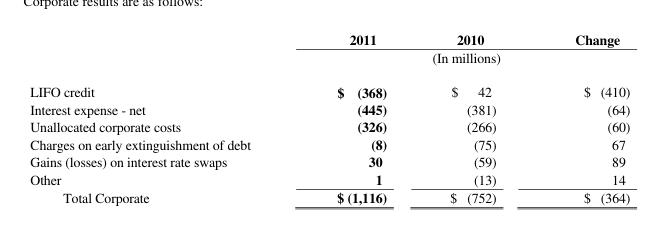table: (29, 29, 629, 206)
table column: (29, 29, 293, 206), (293, 29, 417, 206), (417, 29, 535, 206), (535, 29, 629, 206)
table column header: (29, 29, 629, 73)
table row: (29, 73, 629, 100), (29, 47, 629, 73), (29, 187, 629, 206), (29, 29, 629, 47), (29, 117, 629, 135), (29, 169, 629, 187), (29, 100, 629, 117), (29, 135, 629, 152), (29, 152, 629, 169)
table spanning cell: (293, 47, 629, 73)
